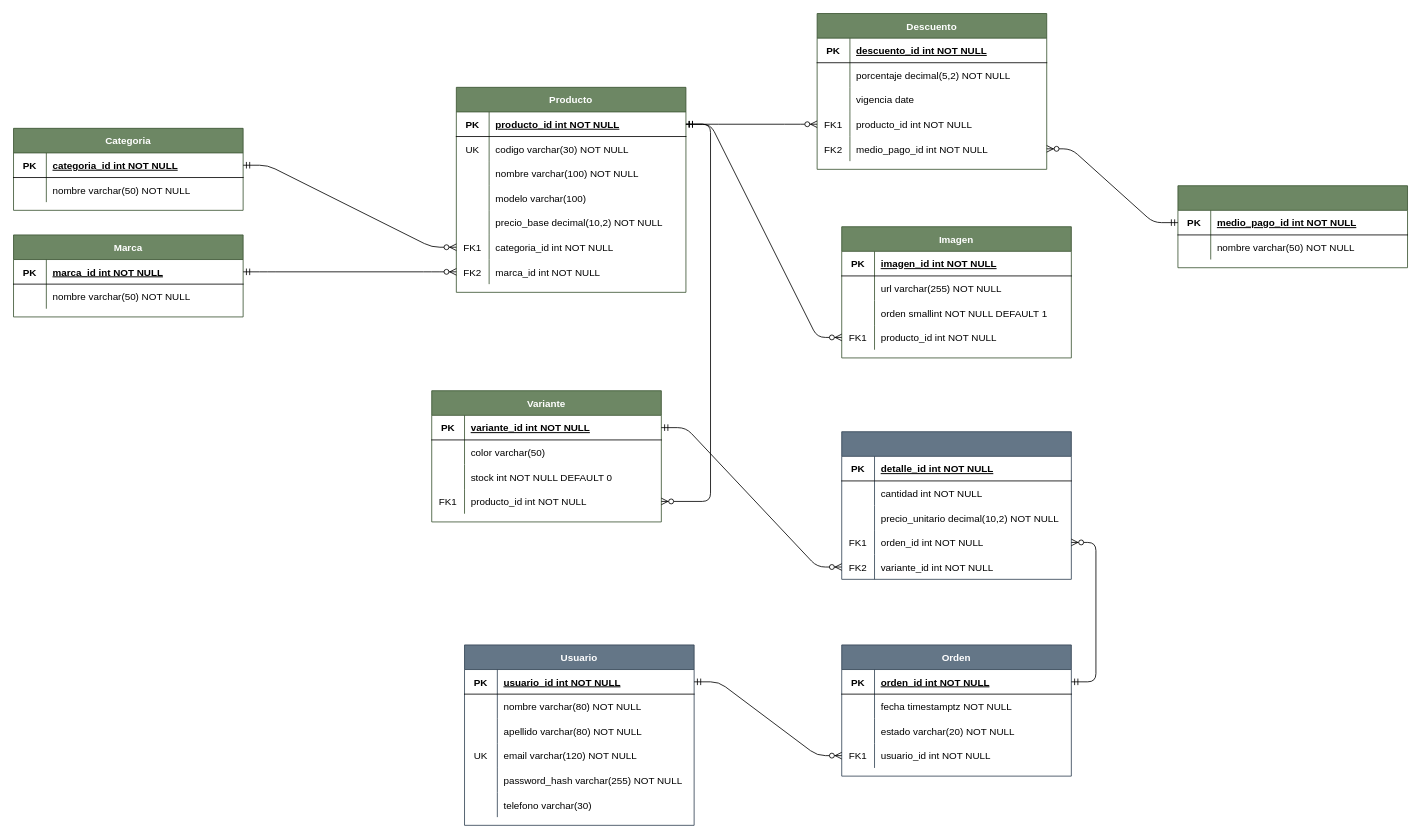
The diagram is 1421 pixels wide and 839 high, and some of its shapes have lost their labels. Here are the shapes that lost their labels. From the top down, the box of each, then its label:
(1177, 185, 1408, 268): Medio_de_pago
(841, 431, 1071, 579): Detalle_orden
